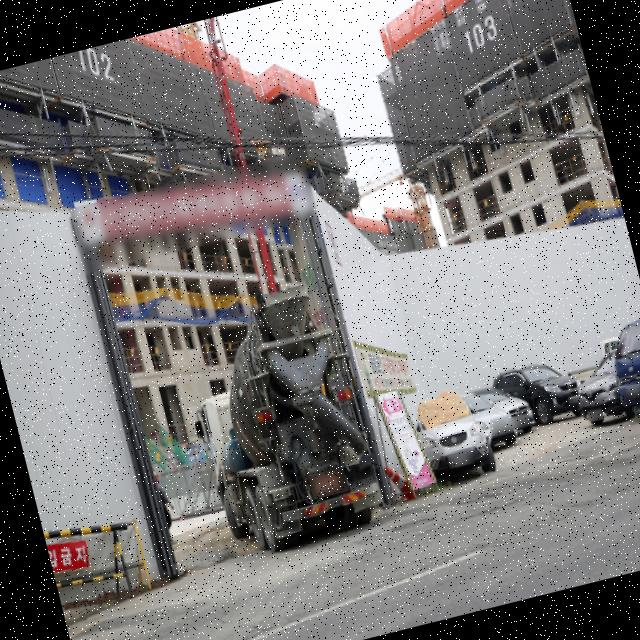Mixer Truck: (172, 274, 391, 562)
